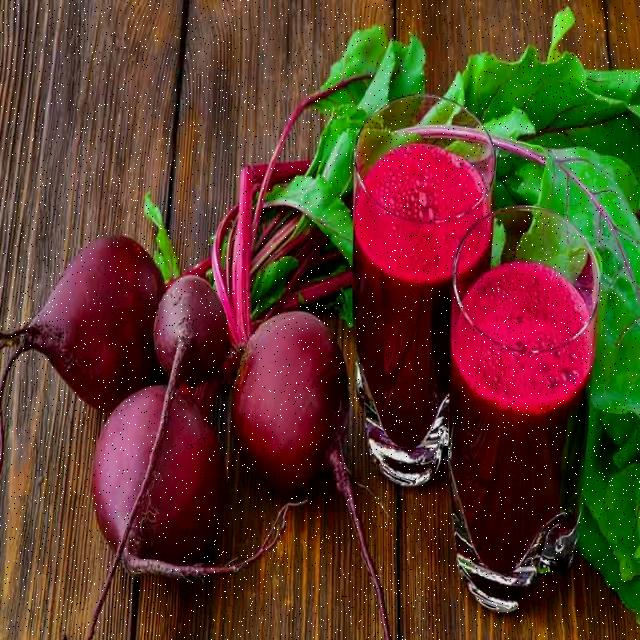Beetroot: (13, 163, 353, 550)
